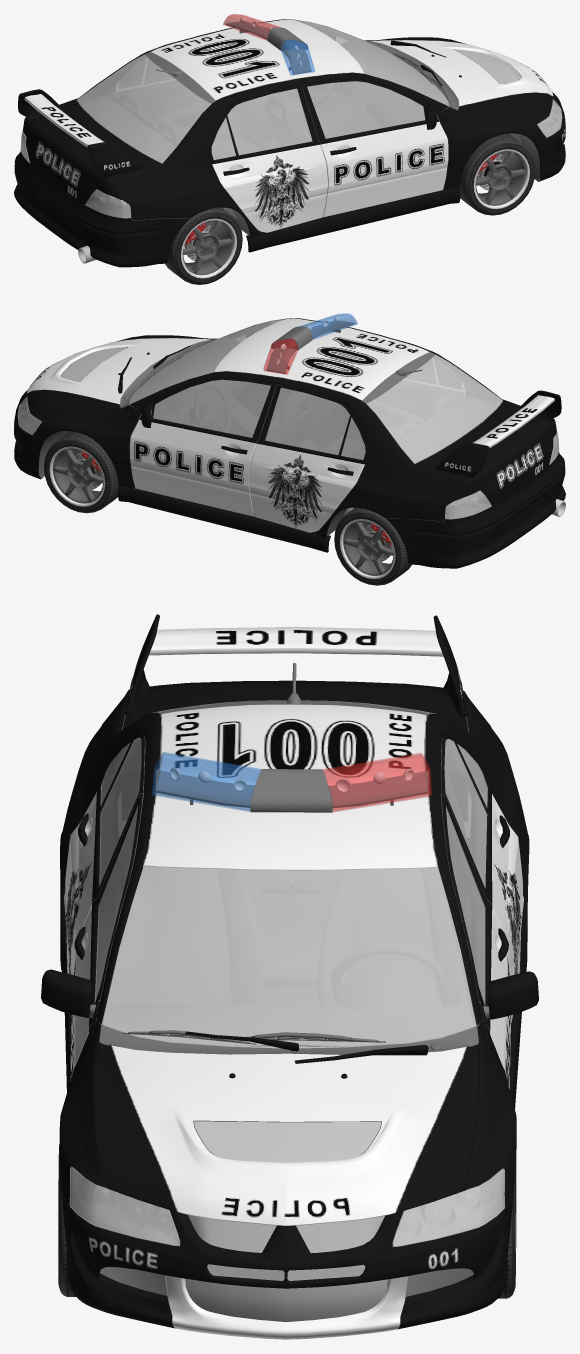
File: car.glb
3 views of the same model, one above another, from view 1: azimuth 30°, elevation 25°; view 2: azimuth 150°, elevation 25°; view 3: azimuth 270°, elevation 25° (orthographic). The views are drawn at different scales.
Parts seen in each view (by area): view 1: Mitsubishi__Evo_ment_car_body_01, Mitsubishi__Evo_ment_wheel_right_front_03, Mitsubishi__Evo_ment_wheel_right_back_04; view 2: Mitsubishi__Evo_ment_car_body_01, Mitsubishi__Evo_ment_wheel_left_front_01, Mitsubishi__Evo_ment_wheel_left_back_01; view 3: Mitsubishi__Evo_ment_car_body_01, Mitsubishi__Evo_ment_wheel_right_front_03, Mitsubishi__Evo_ment_wheel_left_front_01.
Boxes of the visible parts, x1=… form: Mitsubishi__Evo_ment_car_body_01: x1=14, y1=14, x2=565, y2=267; Mitsubishi__Evo_ment_wheel_right_front_03: x1=459, y1=133, x2=535, y2=215; Mitsubishi__Evo_ment_wheel_right_back_04: x1=165, y1=207, x2=242, y2=284; Mitsubishi__Evo_ment_car_body_01: x1=14, y1=313, x2=565, y2=568; Mitsubishi__Evo_ment_wheel_left_front_01: x1=44, y1=431, x2=119, y2=513; Mitsubishi__Evo_ment_wheel_left_back_01: x1=334, y1=507, x2=411, y2=585; Mitsubishi__Evo_ment_car_body_01: x1=41, y1=614, x2=538, y2=1339; Mitsubishi__Evo_ment_wheel_right_front_03: x1=58, y1=1146, x2=75, y2=1296; Mitsubishi__Evo_ment_wheel_left_front_01: x1=498, y1=1157, x2=516, y2=1298.
Bounding box in the file's own units: 4481 × 1546 × 1942.
23 materials, 2 textured.
